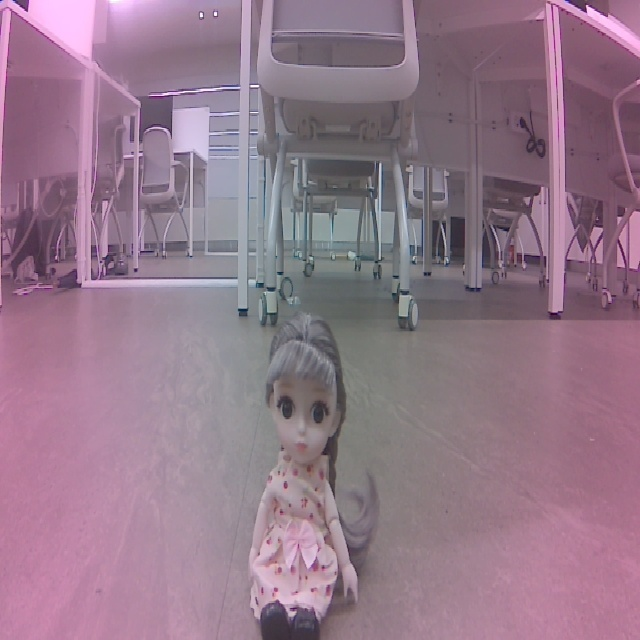장애물: (235, 313, 395, 637)
